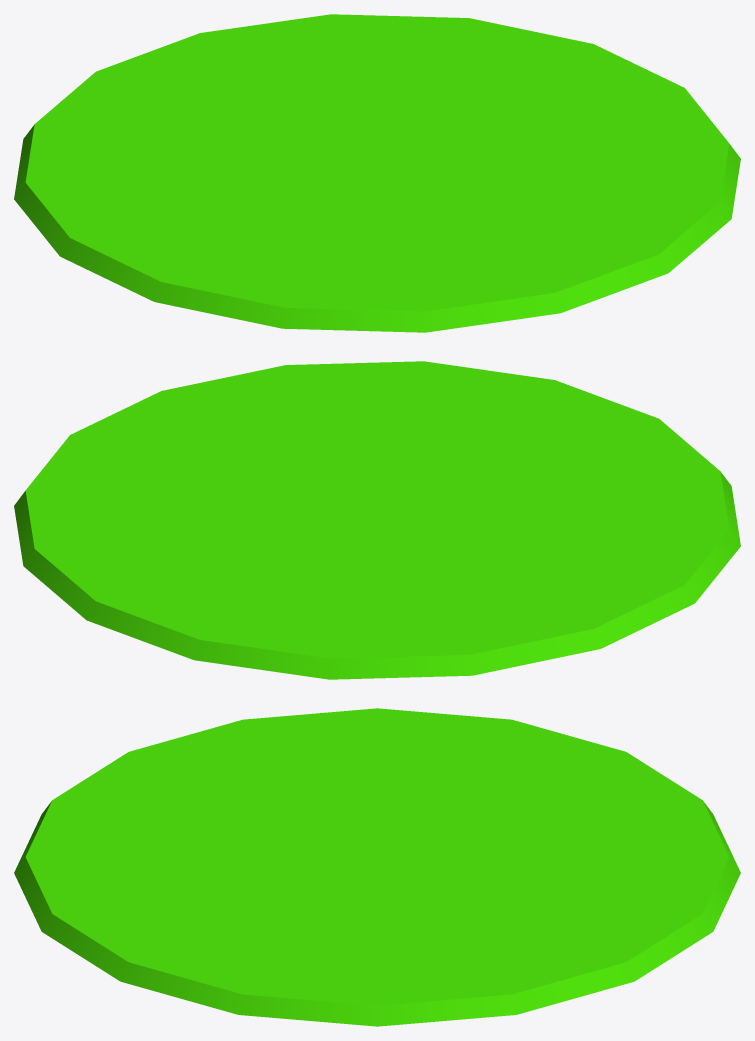
Rendered from Sink_B_Exit.fbx.
3 views of the same model, one above another, from view 1: azimuth 30°, elevation 25°; view 2: azimuth 150°, elevation 25°; view 3: azimuth 270°, elevation 25° (orthographic).
Visible parts, largest first — view 1: Sink_B_Exit; view 2: Sink_B_Exit; view 3: Sink_B_Exit.
Part boxes in pixels (x1,y1,x2,y2): Sink_B_Exit: [14, 14, 740, 332]; Sink_B_Exit: [14, 361, 740, 679]; Sink_B_Exit: [14, 708, 740, 1026].
Size of the model in its own units: 44.12 by 1.07 by 44.12.
